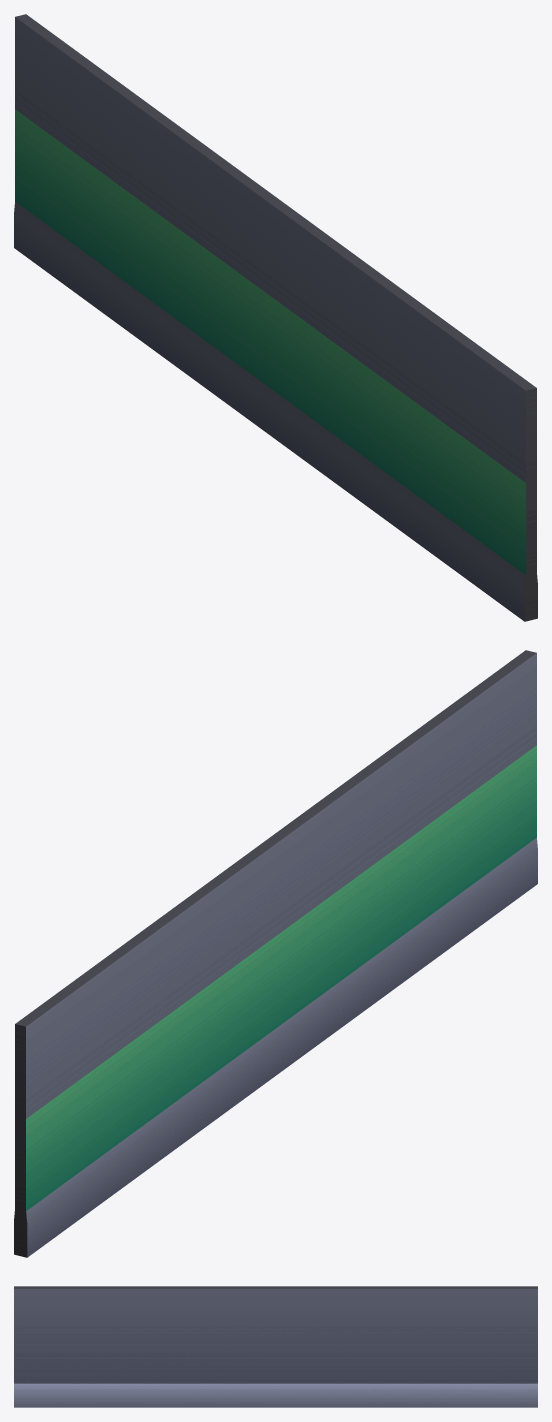
Rendered from wall.073_lev2.glb.
3 views of the same model, one above another, from view 1: azimuth 30°, elevation 25°; view 2: azimuth 150°, elevation 25°; view 3: azimuth 270°, elevation 25° (orthographic). The views are drawn at different scales.
Visible parts, largest first — view 1: wall.073_lev2; view 2: wall.073_lev2; view 3: wall.073_lev2.
Part boxes in pixels (x1,y1,x2,y2): wall.073_lev2: [14, 14, 537, 621]; wall.073_lev2: [14, 650, 537, 1257]; wall.073_lev2: [14, 1286, 537, 1407].
Bounding box in the file's own units: 0.2399 × 4 × 16.03.
1 material, 1 textured.
